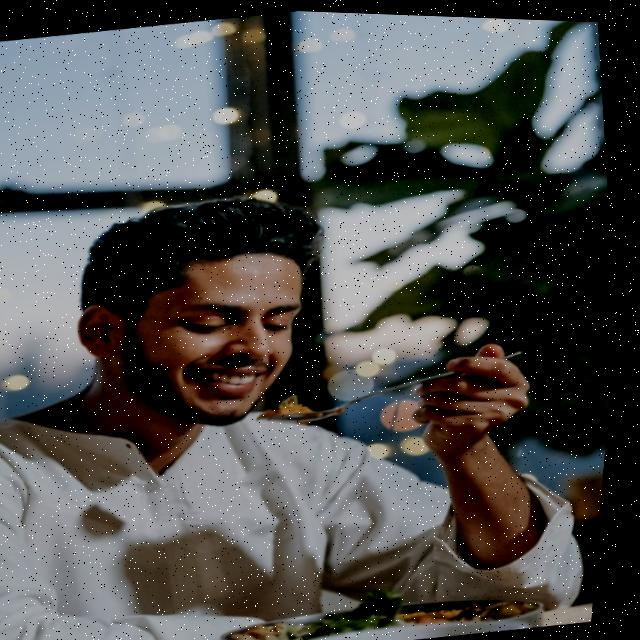eating-person: (0, 134, 631, 640)
